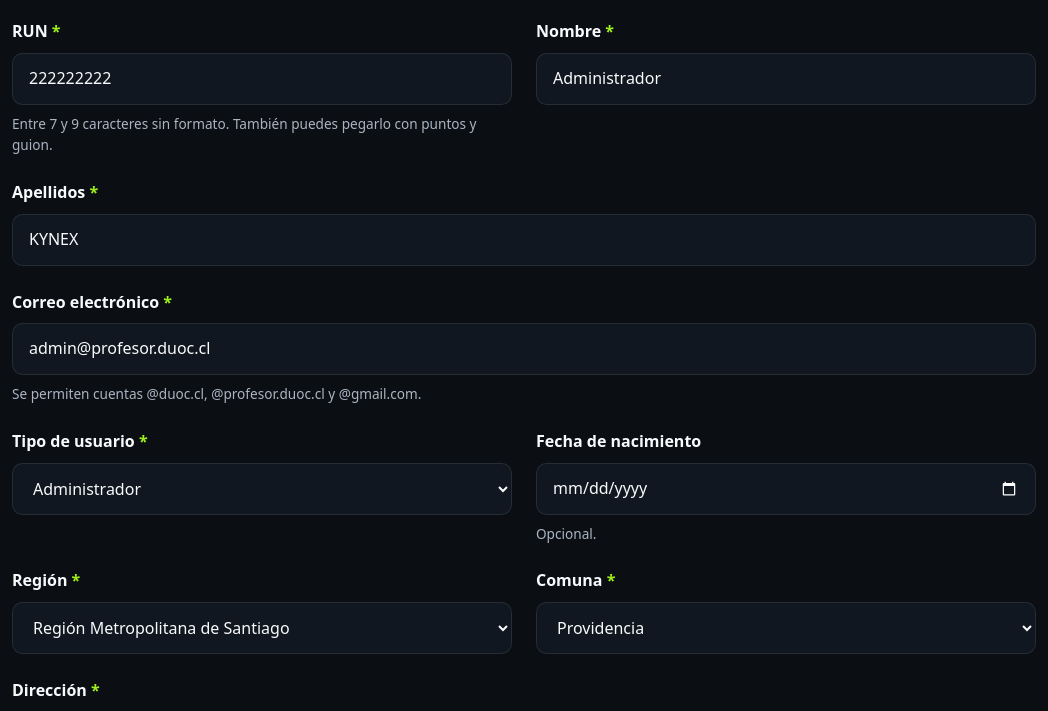
Scenario: AdminUserForm › avisa si el administrador reduce su propio rol
Select "Cliente" in the dropdown labelled "Tipo de usuario": (262, 489) [12, 463, 512, 515]
(page scrolled)
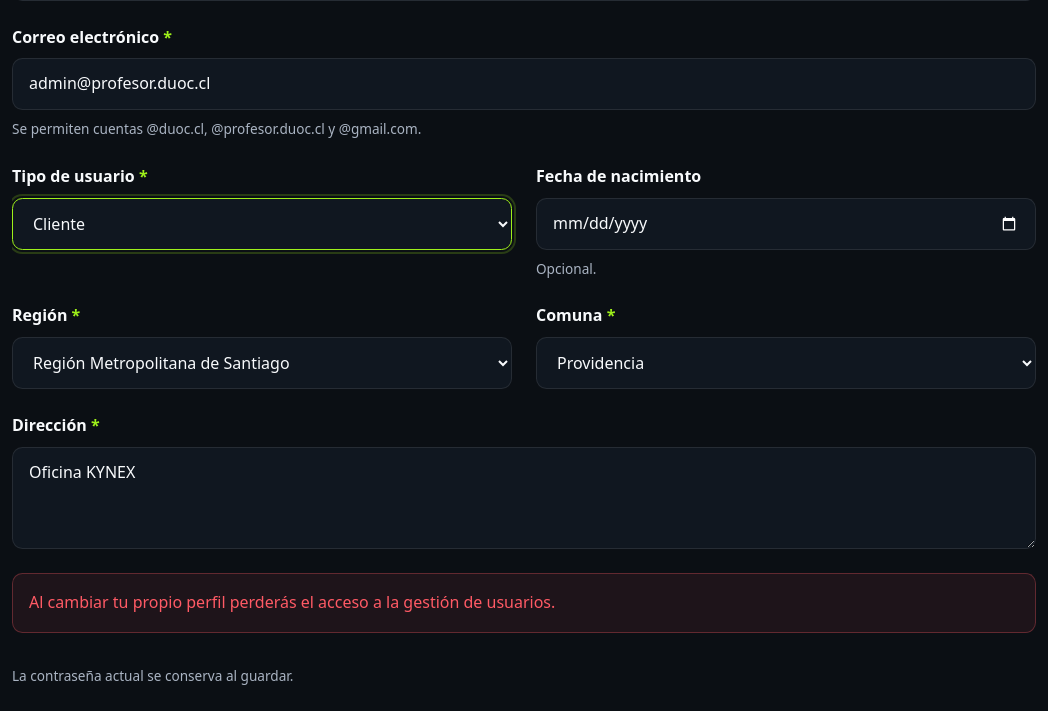
Result: the message shows "perderás el acceso" at [29, 591, 555, 613]
